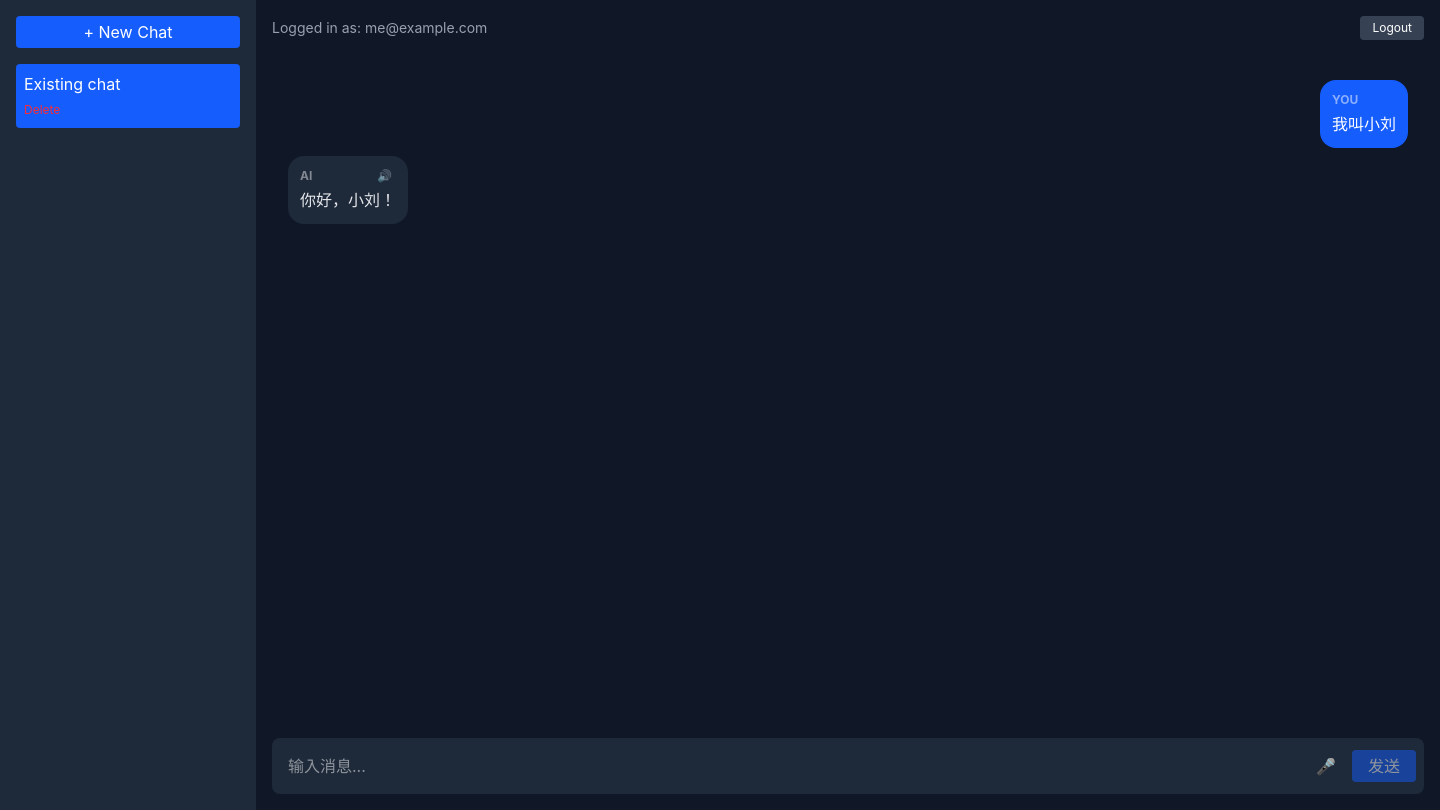
Test: Home – sending a message › multi-turn: sends the previous conversation plus the new question, in order
The image size is (1440, 810).
Expected: the text "Existing chat" is shown, [24, 74, 120, 94]
Type "我叫什么？" into the field with placeholder "输入消息..." at (790, 766), box [280, 754, 1300, 778]
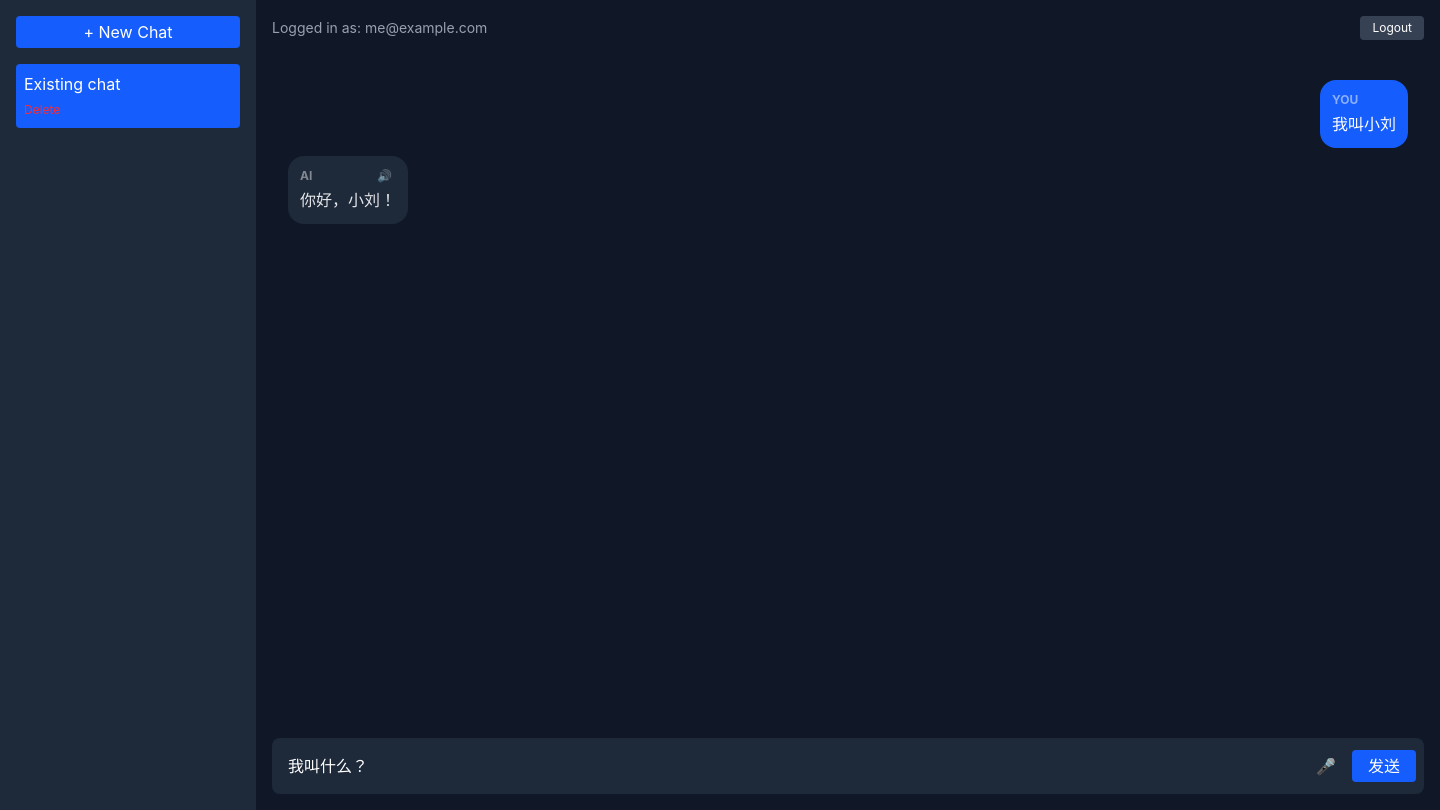
Click the button "发送" at (1384, 766), box [1352, 750, 1416, 782]
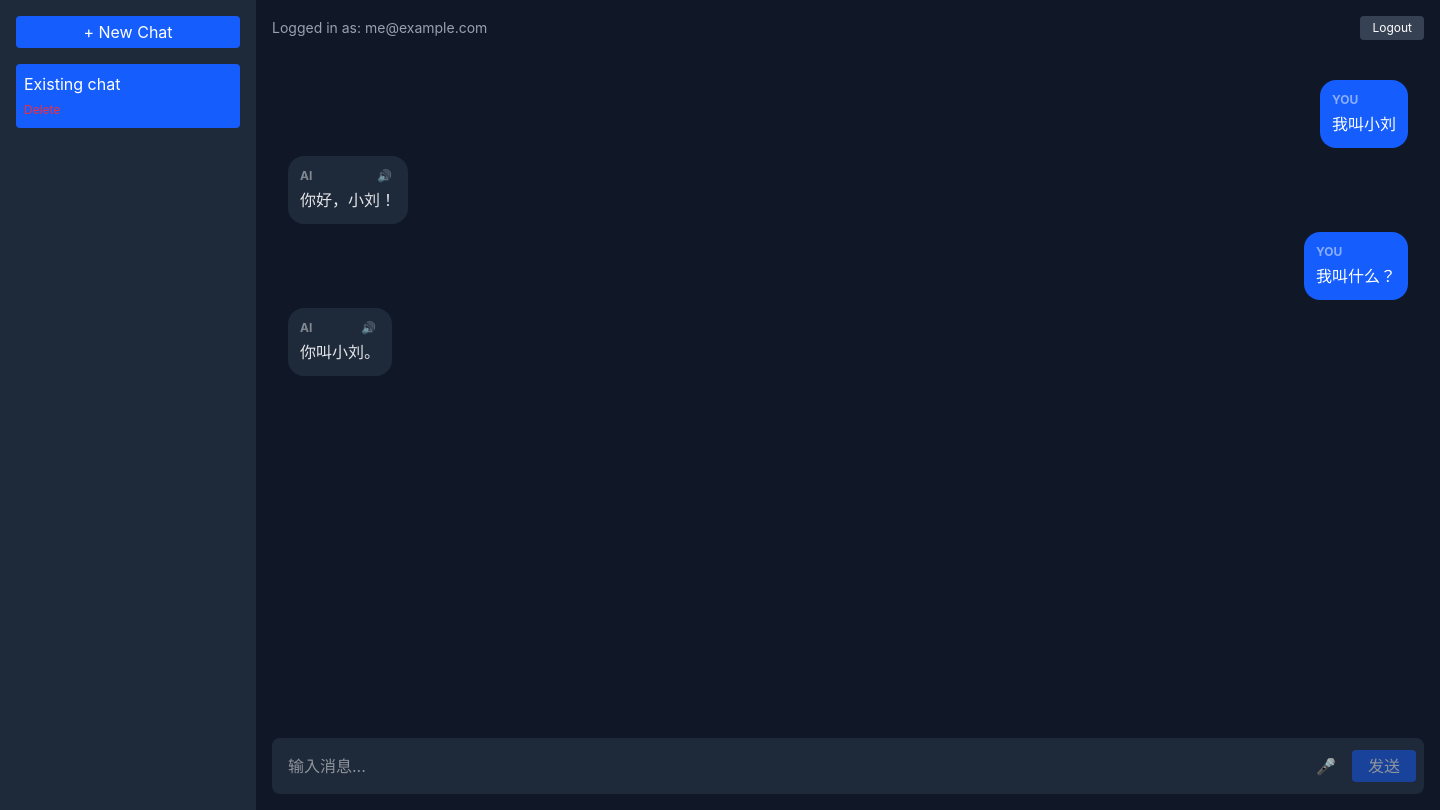
Expected: the text "你叫小刘。" is shown, [300, 340, 380, 364]
